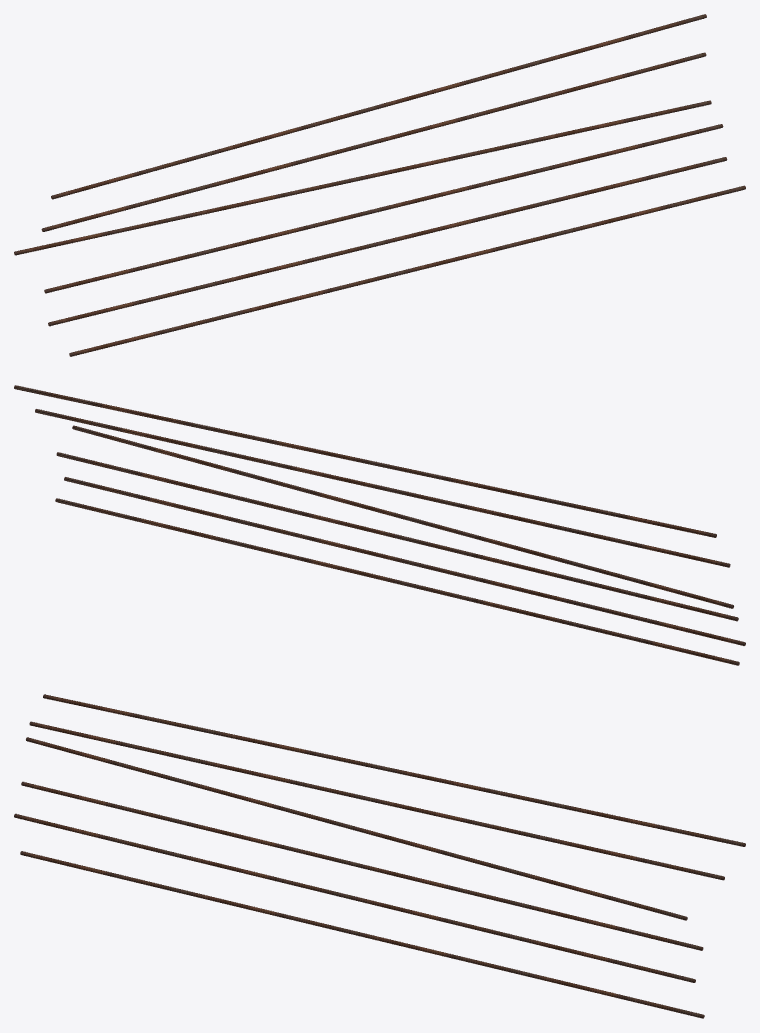
Rendered from EST-ACO-009_anim.glb.
3 renders of one model, top to bottom at view 1: azimuth 30°, elevation 25°; view 2: azimuth 150°, elevation 25°; view 3: azimuth 330°, elevation 25°, orthographic.
Parts seen in each view (by area): view 1: EST-ACO-009_anim3, EST-ACO-009_anim2, EST-ACO-009_anim1, EST-ACO-009_anim0, EST-ACO-009_anim4, EST-ACO-009_anim5; view 2: EST-ACO-009_anim5, EST-ACO-009_anim4, EST-ACO-009_anim0, EST-ACO-009_anim2, EST-ACO-009_anim1, EST-ACO-009_anim3; view 3: EST-ACO-009_anim5, EST-ACO-009_anim4, EST-ACO-009_anim0, EST-ACO-009_anim2, EST-ACO-009_anim1, EST-ACO-009_anim3.
Part boxes in pixels (x1,y1,x2,y2): EST-ACO-009_anim3: (14,100,711,255); EST-ACO-009_anim2: (44,124,723,293); EST-ACO-009_anim1: (48,157,727,326); EST-ACO-009_anim0: (69,185,745,356); EST-ACO-009_anim4: (41,52,706,231); EST-ACO-009_anim5: (51,14,706,199); EST-ACO-009_anim5: (14,385,716,537); EST-ACO-009_anim4: (35,409,730,567); EST-ACO-009_anim0: (55,498,739,665); EST-ACO-009_anim2: (56,452,738,621); EST-ACO-009_anim1: (64,477,745,645); EST-ACO-009_anim3: (72,425,733,608); EST-ACO-009_anim5: (43,694,745,846); EST-ACO-009_anim4: (29,721,724,880); EST-ACO-009_anim0: (20,851,704,1018); EST-ACO-009_anim2: (21,781,703,950); EST-ACO-009_anim1: (14,813,695,982); EST-ACO-009_anim3: (26,737,687,920).
Size of the model in its own units: 1.04 by 0.2056 by 0.1154.
Materials: 1 (1 with a texture image).
